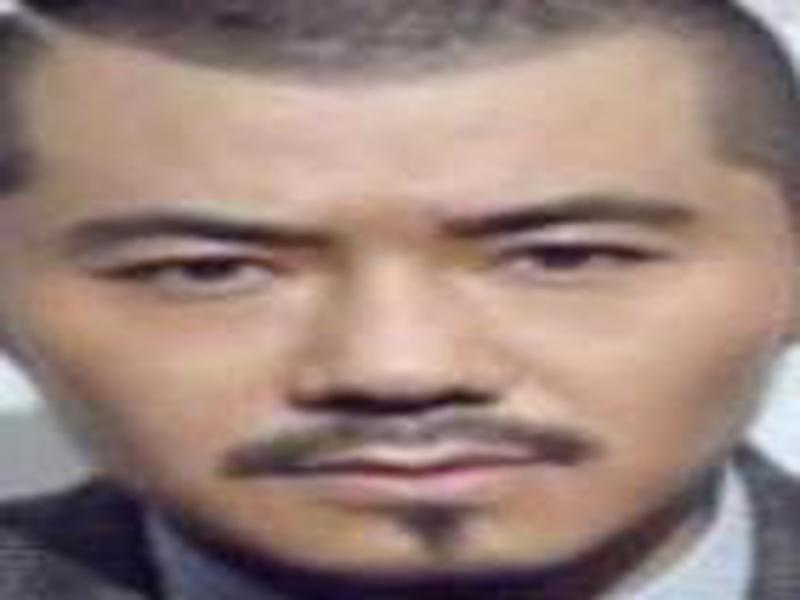without_mask: (10, 40, 776, 584)
